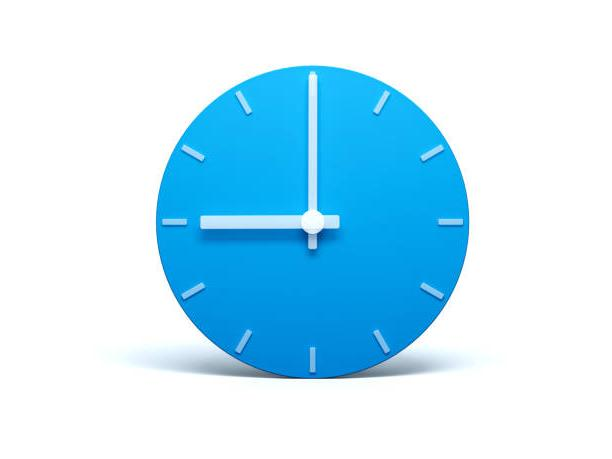clock: (150, 49, 473, 390)
